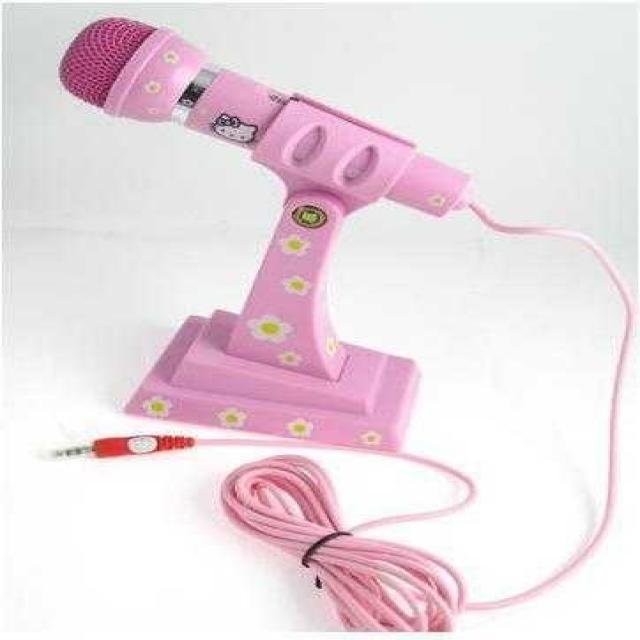microphone: (59, 18, 465, 217)
